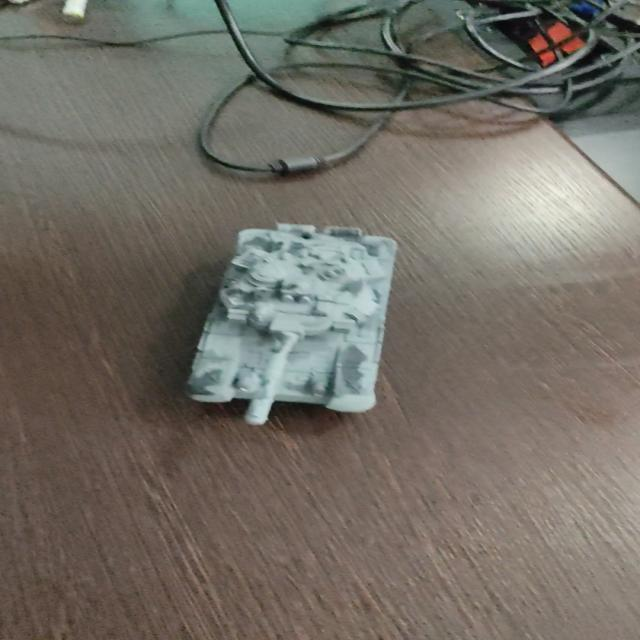tank: (173, 211, 407, 430)
